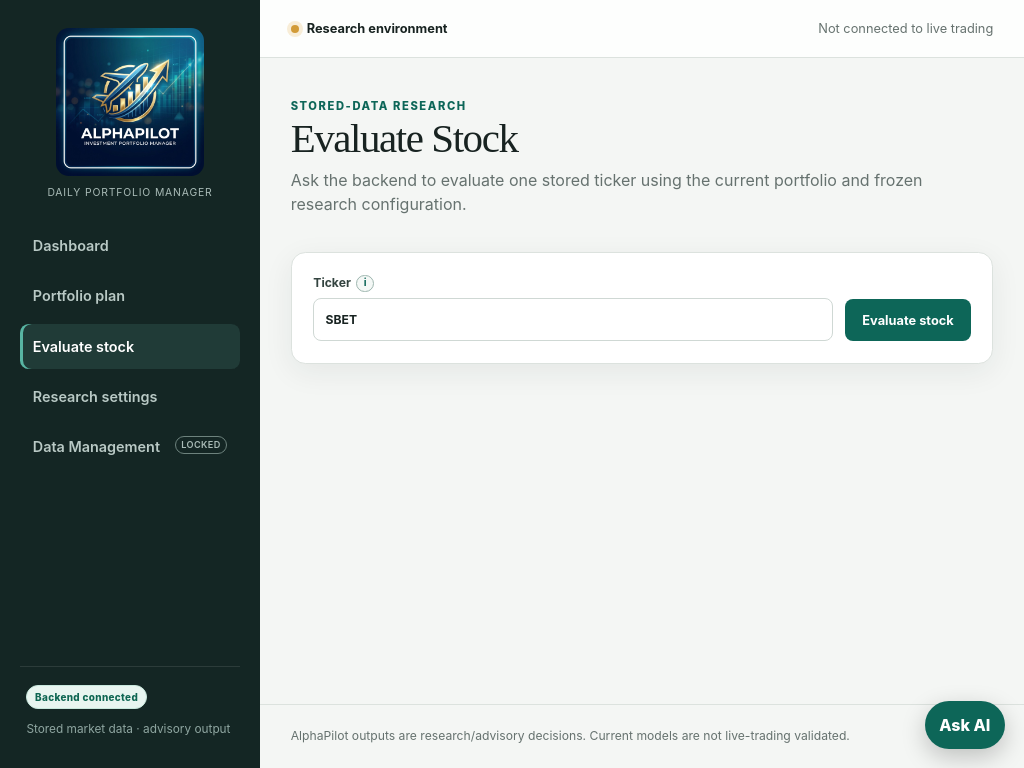
Test case: a response without the requested identity renders a safe error and never falls back
The width and height of the screenshot is (1024, 768).
Click the button "Evaluate stock": [908, 320] box x1=845 y1=299 x2=971 y2=341
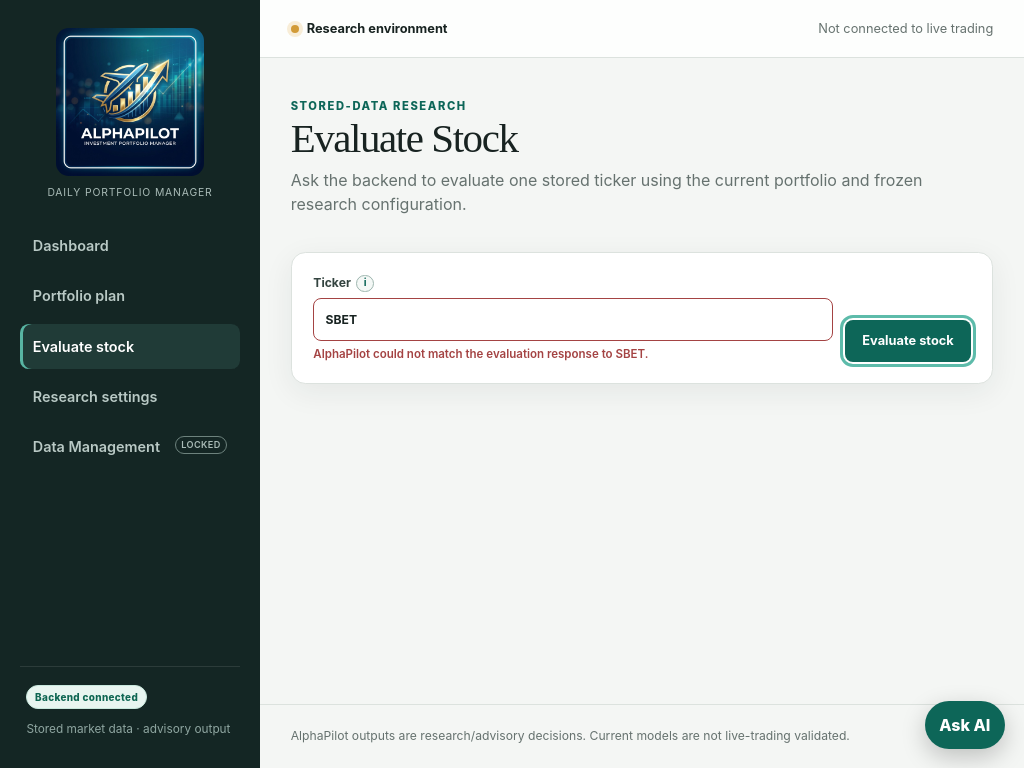
Now the text "AlphaPilot could not match the evaluation response to SBET." is shown, box x1=313 y1=347 x2=648 y2=361
